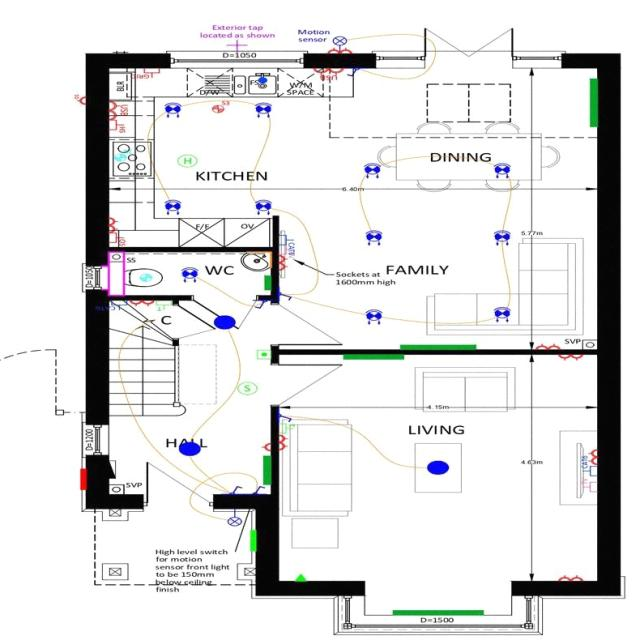BT Entry Point: (294, 573, 305, 580)
Cat 6 Data Socket: (580, 454, 596, 476), (279, 234, 293, 255), (104, 300, 126, 309)
Ceiling Mounted Continuous Extract FanWith Boost Mode Activated By Light Switch: (140, 273, 152, 280)
Ceiling Mounted Continuous Extract FanWith Local Boost Switch: (212, 100, 228, 112)
Co-Ax TV Socket: (580, 477, 596, 491), (279, 245, 294, 258)
Consumer Unit: (109, 459, 115, 478)
Double Socket: (129, 299, 153, 306), (108, 216, 118, 232), (557, 574, 582, 580), (558, 354, 583, 360), (327, 47, 351, 53), (278, 434, 287, 450), (278, 255, 287, 270), (534, 343, 560, 348), (588, 449, 596, 464)
Electric Meter Box: (79, 468, 86, 490)
External Wall Light: (227, 508, 241, 526), (332, 35, 346, 51)
Gas Meter Box: (250, 529, 255, 551)
Grid Switch: (130, 68, 159, 80)
Hob Switch: (108, 119, 125, 132)
Light Switch: (278, 413, 291, 422), (229, 486, 242, 494), (279, 292, 291, 300), (254, 300, 266, 308), (252, 485, 264, 493), (346, 67, 356, 76)
Low Energy Downlighter: (162, 101, 180, 118), (254, 101, 272, 117), (254, 198, 272, 214), (180, 266, 198, 282), (163, 198, 180, 214), (363, 162, 380, 178), (492, 162, 510, 177), (364, 309, 382, 324), (366, 229, 382, 245), (494, 229, 509, 245), (494, 306, 509, 322)
Low Energy Pendant Light: (213, 314, 235, 329), (178, 441, 200, 455), (427, 460, 448, 474)
Mains Wired Smoke Detector: (236, 382, 257, 394)
Outside Socket: (73, 92, 84, 104)
Oven Switch: (108, 232, 125, 244)
Programmable Room Thermostat: (256, 349, 270, 358)
Radiator: (392, 609, 483, 615), (589, 78, 597, 126), (400, 344, 476, 349), (342, 353, 403, 359), (262, 454, 270, 484), (264, 275, 271, 289)
Recirculating Extractor Fan: (114, 148, 130, 160)
Single Socket: (261, 442, 270, 450)
Telephone Socket: (155, 300, 171, 310), (279, 423, 294, 432)
USB Double Socket: (108, 100, 128, 120), (312, 67, 342, 80)
Water Entry Position: (226, 39, 246, 51), (258, 77, 266, 83)
